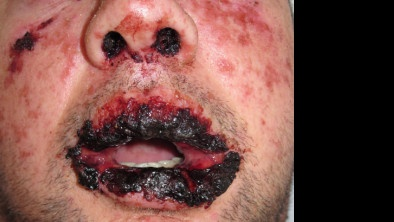SJS-TEN: (50, 55, 264, 222), (0, 0, 87, 94), (91, 5, 197, 74)
